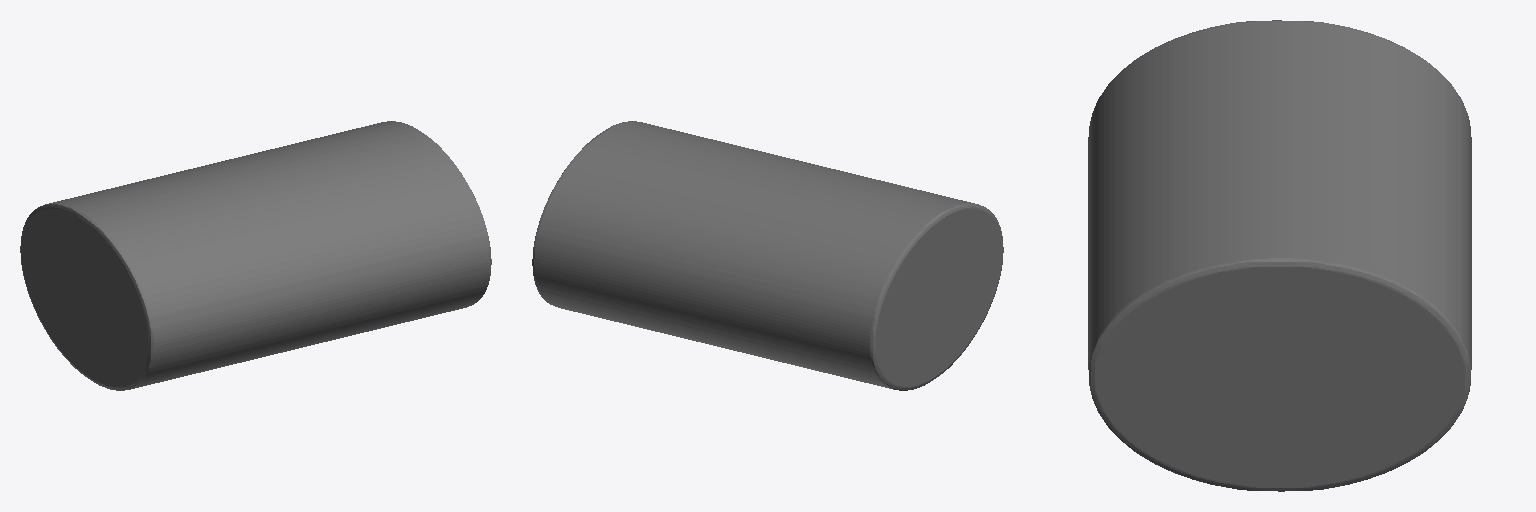
robot.urdf — square_table_leg4_fmb_ellipse_sdf_hybrid_matchedmass:
<?xml version="1.0" encoding="utf-8"?>
<robot name="square_table_leg4_fmb_ellipse_sdf_hybrid_matchedmass">
  <!-- FMB-shape body variant (ellipse): body cross-section from the FMB benchmark, same length, same thread.
       Generated by tools/peg_variants/make_leg4_fmb_variants.py. -->
  <link name="base_link">
    <inertial>
      <mass value="0.022750"/>
      <origin xyz="0.005745 0.000000 0.000002" rpy="0 0 0"/>
      <inertia ixx="2.672121e-06" ixy="-2.071160e-10" ixz="-8.677230e-09" iyy="1.149527e-05" iyz="-1.320313e-10" izz="1.265799e-05"/>
    </inertial>
  </link>
  <material name="thread">
    <color rgba="0.95 0.55 0.10 1.0"/>
  </material>
  <material name="body">
    <color rgba="0.50 0.50 0.50 1.0"/>
  </material>
  <link name="thread_link">
    <visual>
      <origin xyz="0 0 0" rpy="0 0 0"/>
      <geometry><mesh filename="../../sdf_hybrid/square_table_leg4_thread.obj" scale="1 1 1"/></geometry>
      <material name="thread"/>
    </visual>
    <collision>
      <origin xyz="0 0 0" rpy="0 0 0"/>
      <geometry><mesh filename="../../sdf_hybrid/square_table_leg4_thread.obj" scale="1 1 1"/></geometry>
      <sdf resolution="256"/>
    </collision>
  </link>
  <joint name="base_to_thread" type="fixed">
    <parent link="base_link"/>
    <child link="thread_link"/>
    <origin xyz="0 0 0" rpy="0 0 0"/>
  </joint>
  <link name="body_link">
    <visual><origin xyz="0 0 0" rpy="0 0 0"/><geometry><mesh filename="body_coacd/decomp_0.obj" scale="1 1 1"/></geometry><material name="body"/></visual>
    <collision><origin xyz="0 0 0" rpy="0 0 0"/><geometry><mesh filename="body_coacd/decomp_0.obj" scale="1 1 1"/></geometry></collision>
  </link>
  <joint name="base_to_body" type="fixed">
    <parent link="base_link"/>
    <child link="body_link"/>
    <origin xyz="0 0 0" rpy="0 0 0"/>
  </joint>
</robot>

--- Facts derived from the render (not from the file) ---
Views: 3 orthographic renders of the robot side by side, from view 1: azimuth 30°, elevation 25°; view 2: azimuth 150°, elevation 25°; view 3: azimuth 270°, elevation 25°.
Model square_table_leg4_fmb_ellipse_sdf_hybrid_matchedmass with 3 links and 2 joints (2 fixed), rooted at base_link, posed all joints at 0.
Links seen in each view (by area): view 1: body_link; view 2: body_link; view 3: body_link.
Boxes of the visible links, bbox=[...] form: body_link: bbox=[20, 121, 491, 390]; body_link: bbox=[532, 121, 1003, 390]; body_link: bbox=[1088, 20, 1471, 491].
Size in the robot's own frame: 0.0632 by 0.0421 by 0.0283 metres.
1 mesh visuals loaded from 2 distinct referenced files (1 OBJ); not drawn: 1 (reference not matched to a file when rendering).
